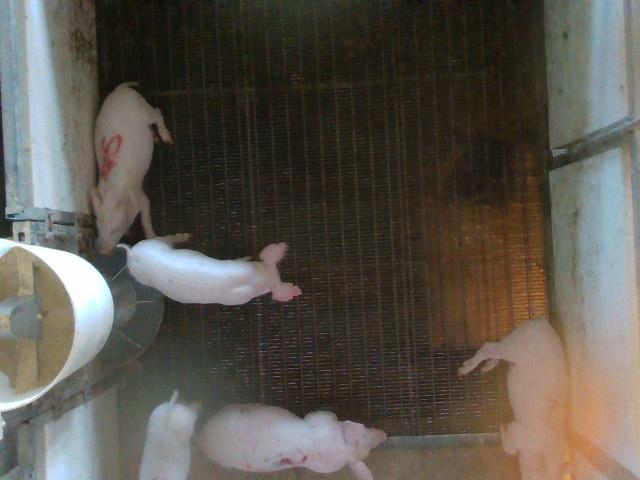pig-2: (459, 319, 570, 479)
pig-3: (199, 404, 386, 479)
pig-5: (91, 82, 172, 254)
